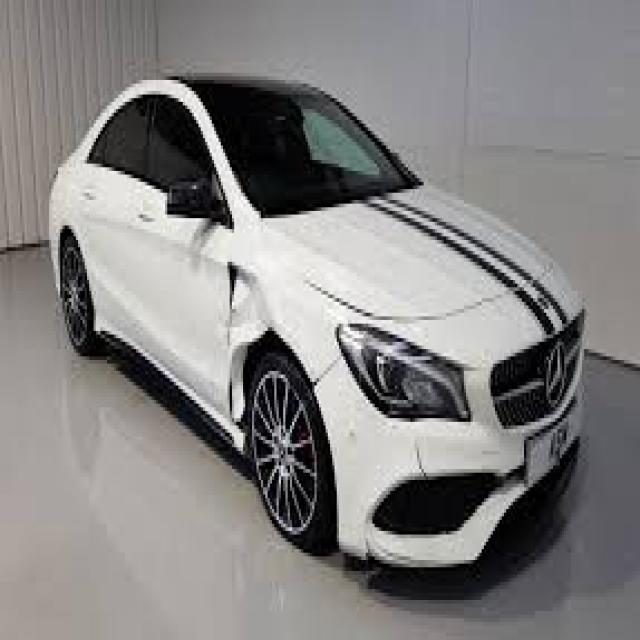minor: (203, 243, 316, 466)
